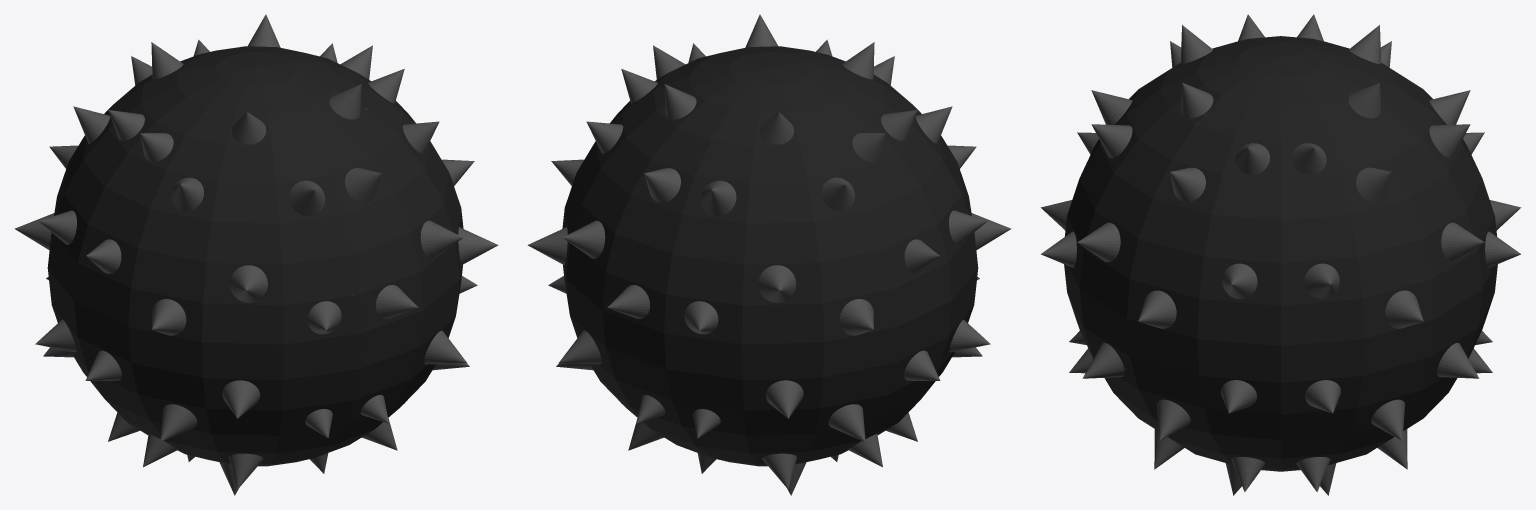
The model's file is spike ball.fbx.
The picture shows the model from 3 angles, left to right: view 1: azimuth 30°, elevation 25°; view 2: azimuth 150°, elevation 25°; view 3: azimuth 270°, elevation 25°; orthographic projection. The views are drawn at different scales.
Parts seen in each view (by area): view 1: Sphere; view 2: Sphere; view 3: Sphere.
Part boxes in pixels (<box>): Sphere: <box>14,14,498,495</box>; Sphere: <box>527,14,1011,495</box>; Sphere: <box>1040,14,1521,495</box>.
Size of the model in its own units: 215 by 212 by 221.
Materials: 1 (1 with a texture image).
